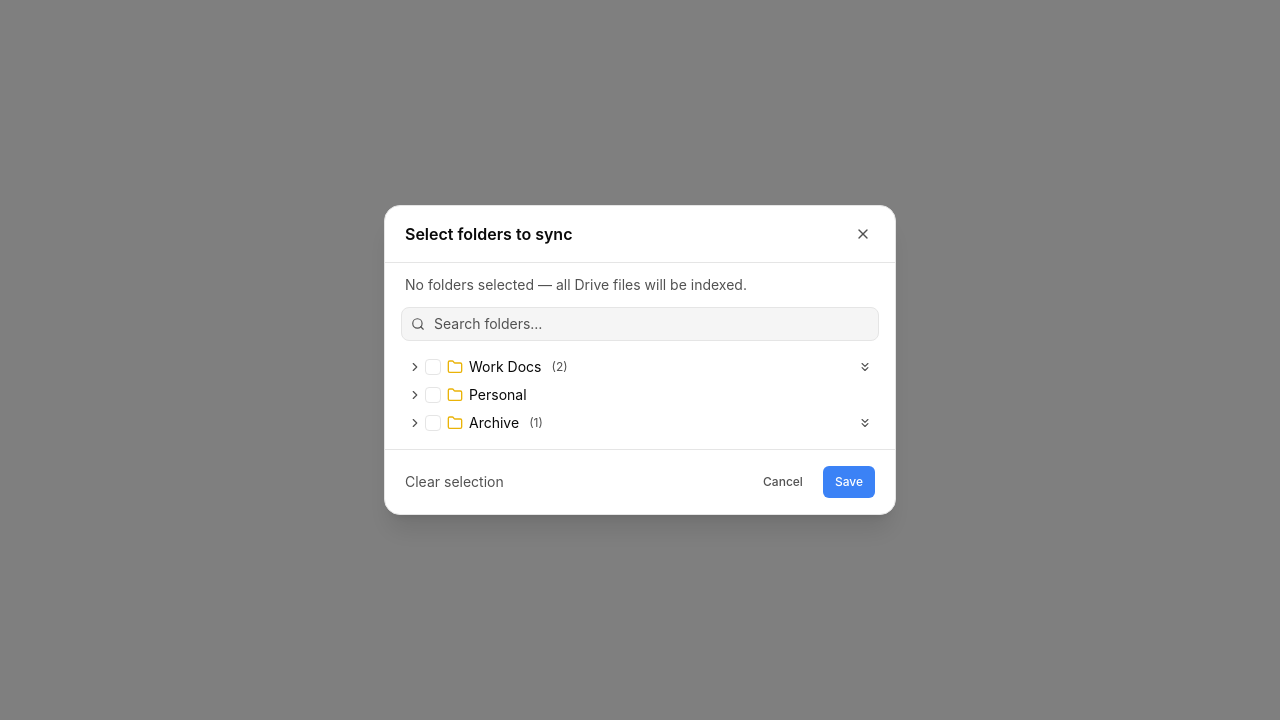
Test: FolderPickerModal › breadcrumb bar updates when a folder is expanded
The width and height of the screenshot is (1280, 720).
Expected: the text "Work Docs" is shown, [469, 357, 542, 377]
// Expand Work Docs
Click the 1st button named "Expand folder" at (415, 367), box [405, 357, 425, 377]
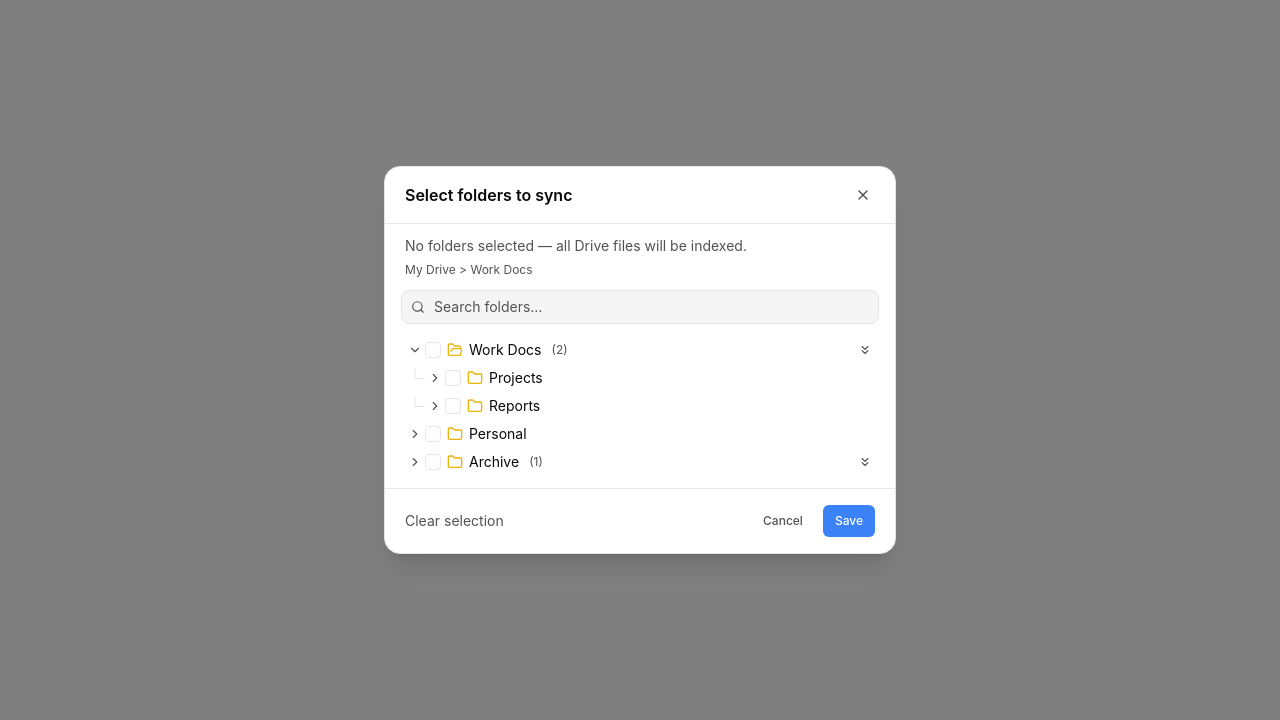
Expected: the text named "Currently expanded folder path" shows "Work Docs", [405, 262, 532, 277]
